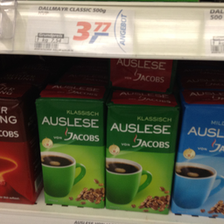coffee: (104, 90, 179, 215), (35, 84, 105, 210), (171, 86, 223, 217)
